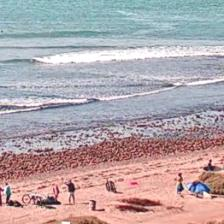surfer: (1, 30, 3, 32)
